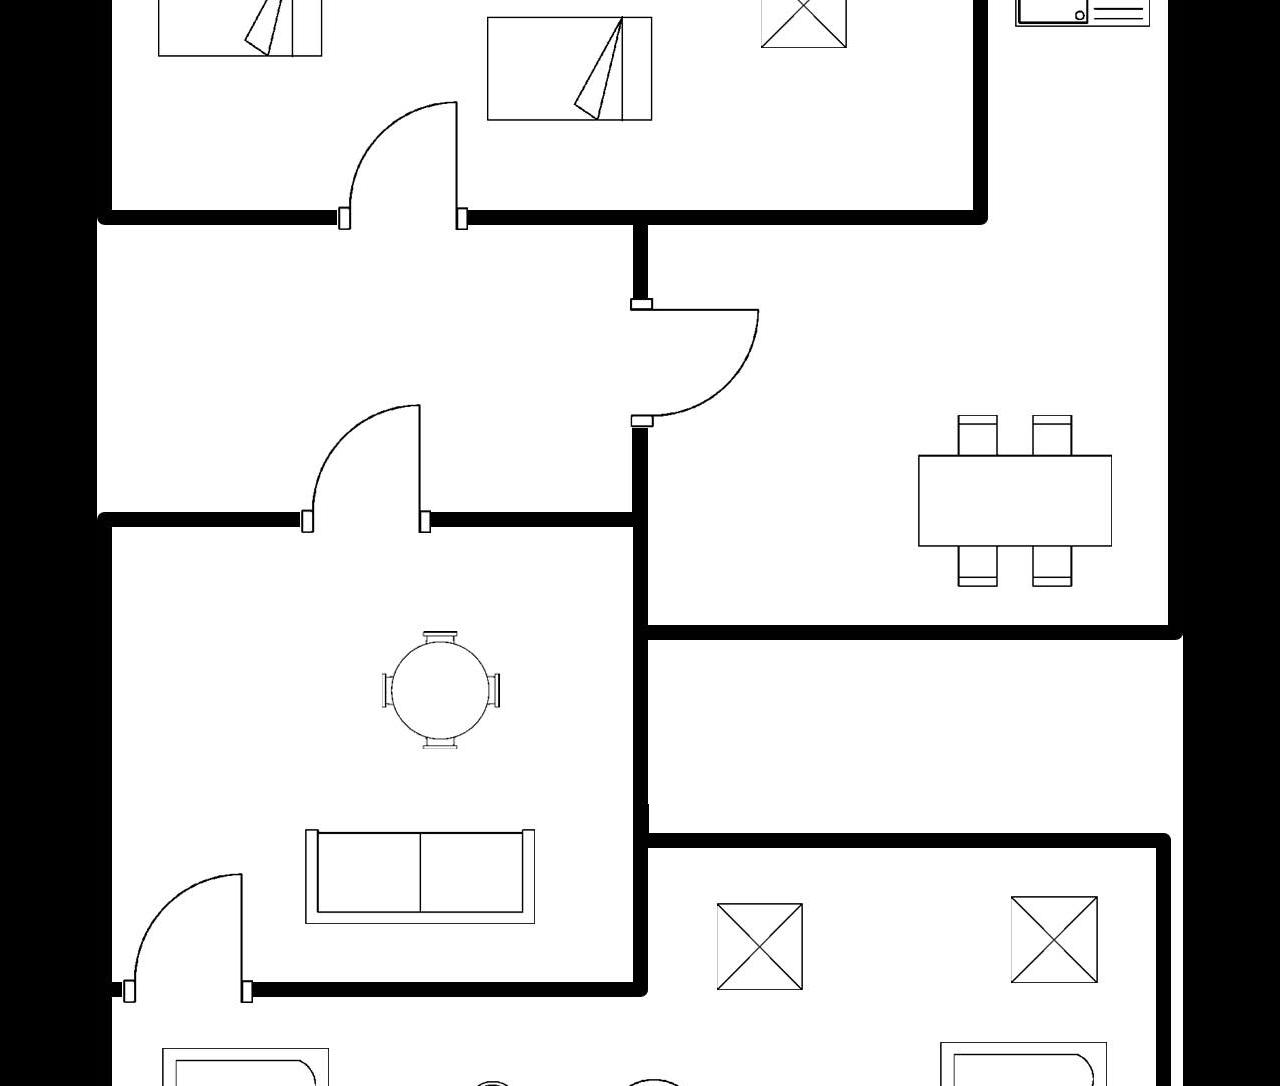bed: (477, 6, 659, 129), (148, 0, 330, 68)
dining_table: (903, 404, 1119, 595)
round_table: (371, 621, 509, 761)
sink: (1006, 0, 1158, 34)
sofa: (295, 821, 542, 933)
tub: (930, 1033, 1114, 1086), (153, 1036, 335, 1086)
